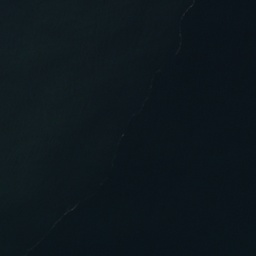Marine Debris: (171, 0, 197, 60)
